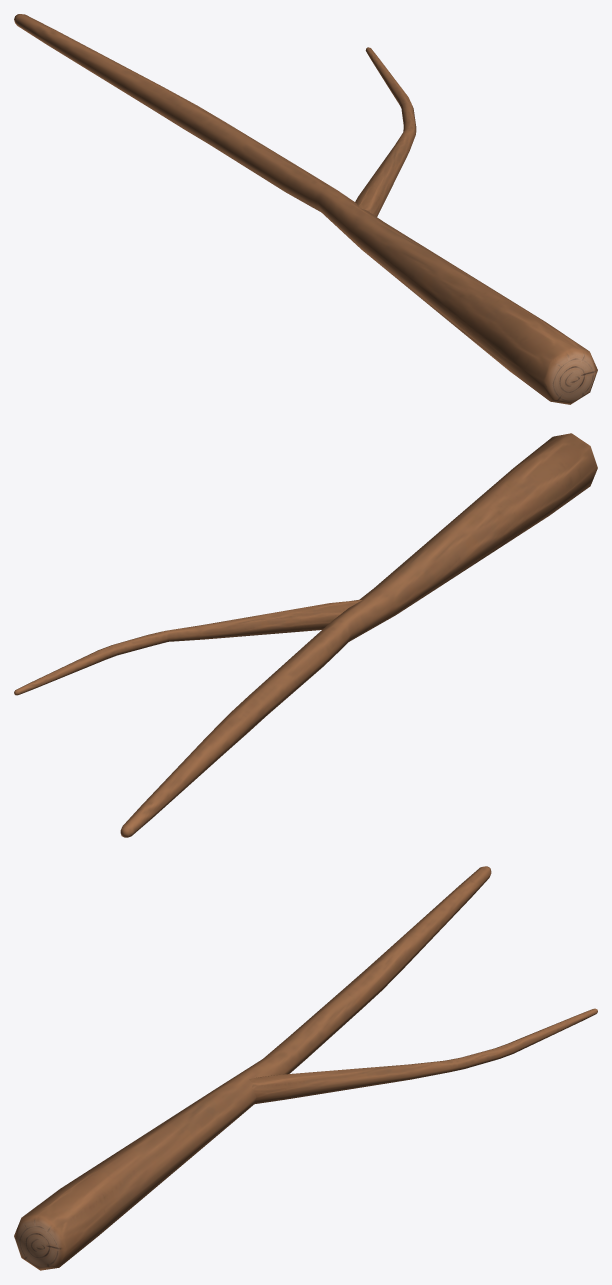
File: branch.glb
3 renders of one model, top to bottom at view 1: azimuth 30°, elevation 25°; view 2: azimuth 150°, elevation 25°; view 3: azimuth 330°, elevation 25°, orthographic. The views are drawn at different scales.
Parts seen in each view (by area): view 1: SM_Branch_01_LOD0; view 2: SM_Branch_01_LOD0; view 3: SM_Branch_01_LOD0.
Boxes of the visible parts, x1,y1,x2,y2 form: SM_Branch_01_LOD0: (14, 14, 597, 404); SM_Branch_01_LOD0: (14, 433, 597, 837); SM_Branch_01_LOD0: (14, 866, 597, 1270).
Size of what is drawn, in the model's own units: 0.0032 by 0.000751 by 0.0118.
Materials: 1 (1 with a texture image).
